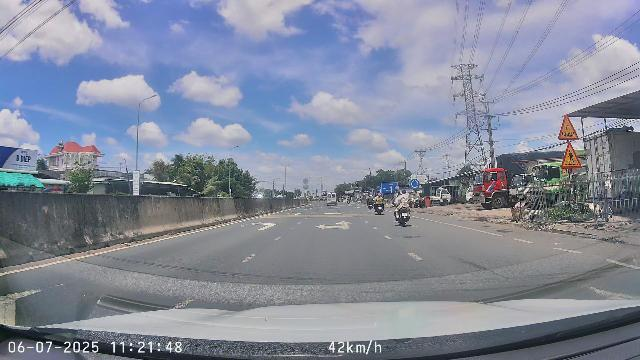224-duong-nguoi-di-bo-cat-ngang: (561, 142, 582, 169)
245-di-cham: (559, 115, 579, 140)
301h-cac-xe-chi-duoc-di-thang-va-re-trai: (376, 187, 381, 193)
303-noi-giao-nhau-chay-theo-vong-xuyen: (410, 179, 420, 189)
